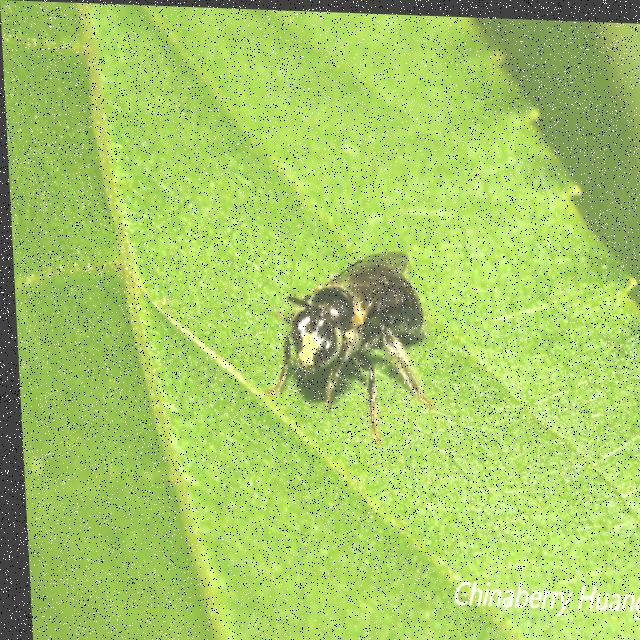Meliponula: (243, 222, 451, 472)
